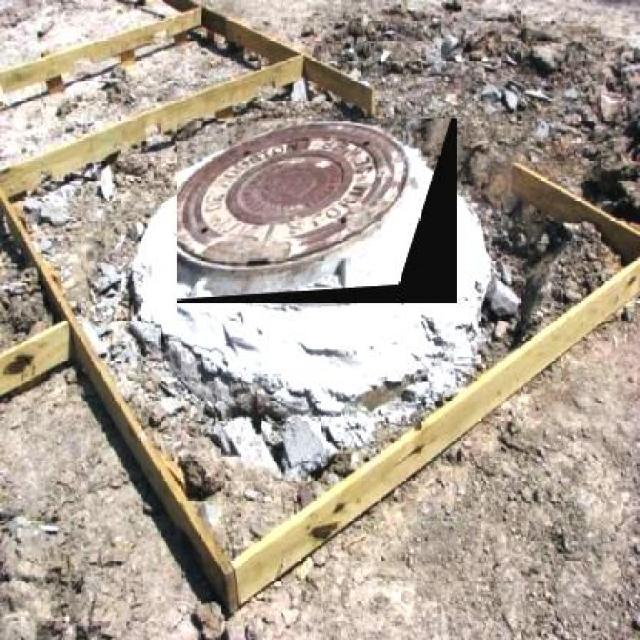Manhole: (177, 119, 457, 304)
Pothole: (340, 13, 640, 115), (483, 107, 640, 230)
